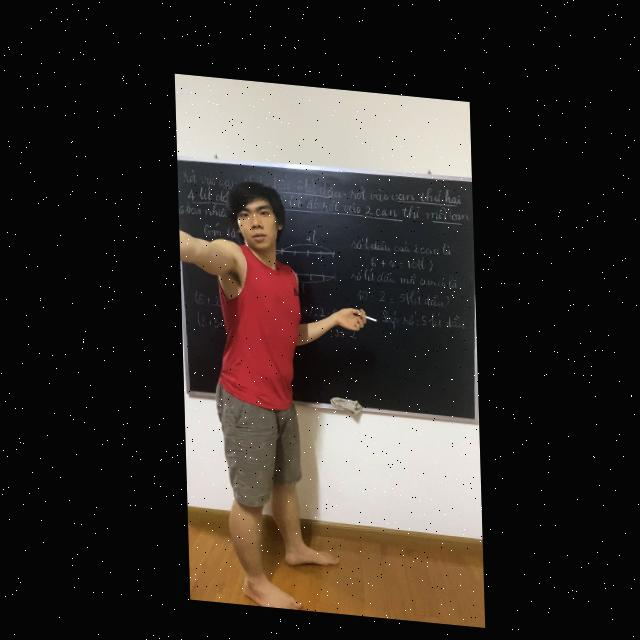cigarette: (357, 306, 375, 314)
